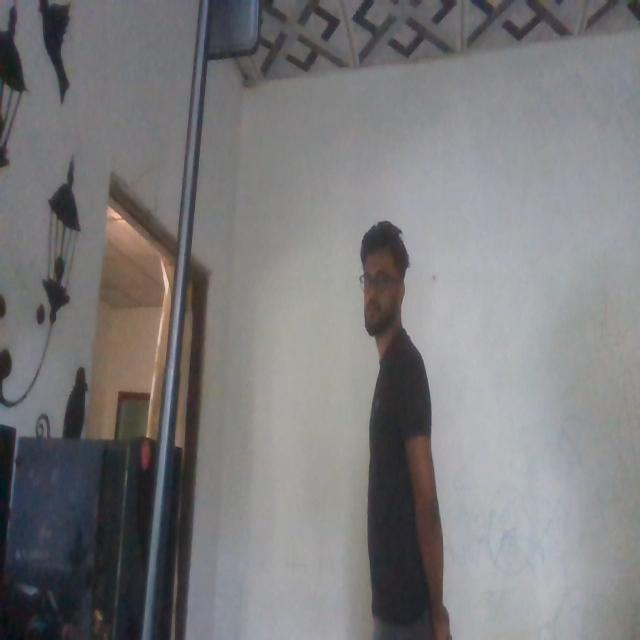Person: (346, 216, 468, 640)
